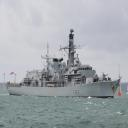Fragata: (7, 29, 123, 98)
